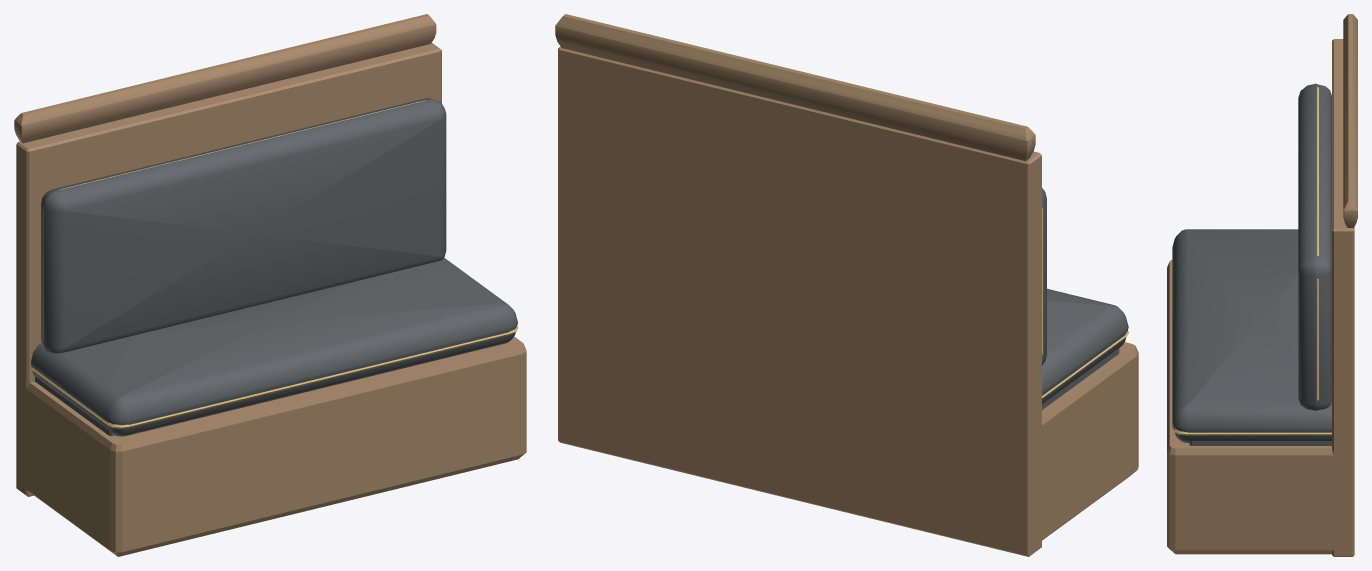
File: bar-pub-and-brewery-taproom-banquette-run-1400-leather-d9ba5b7e__18393.glb
3 views of the same model, side by side, from view 1: azimuth 30°, elevation 25°; view 2: azimuth 150°, elevation 25°; view 3: azimuth 270°, elevation 25° (orthographic). The views are drawn at different scales.
Visible parts, largest first — view 1: banquette-run-1400-leather; view 2: banquette-run-1400-leather; view 3: banquette-run-1400-leather.
Part boxes in pixels (x1,y1,x2,y2): banquette-run-1400-leather: (14,14,526,556); banquette-run-1400-leather: (555,14,1138,556); banquette-run-1400-leather: (1167,14,1357,556).
Size of the model in its own units: 1.4 by 1.21 by 0.5905.
